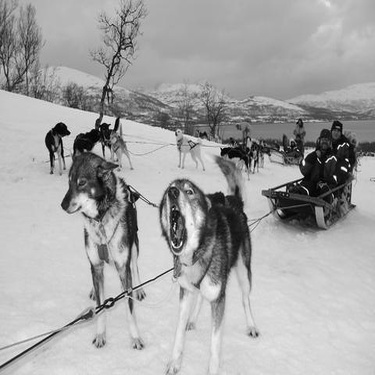dog: (134, 152, 268, 370), (46, 140, 153, 358), (95, 116, 143, 181), (82, 109, 122, 170), (161, 128, 204, 178), (39, 107, 69, 175), (68, 126, 102, 186), (213, 144, 249, 183), (234, 128, 268, 166), (226, 131, 249, 159), (184, 123, 210, 142)
